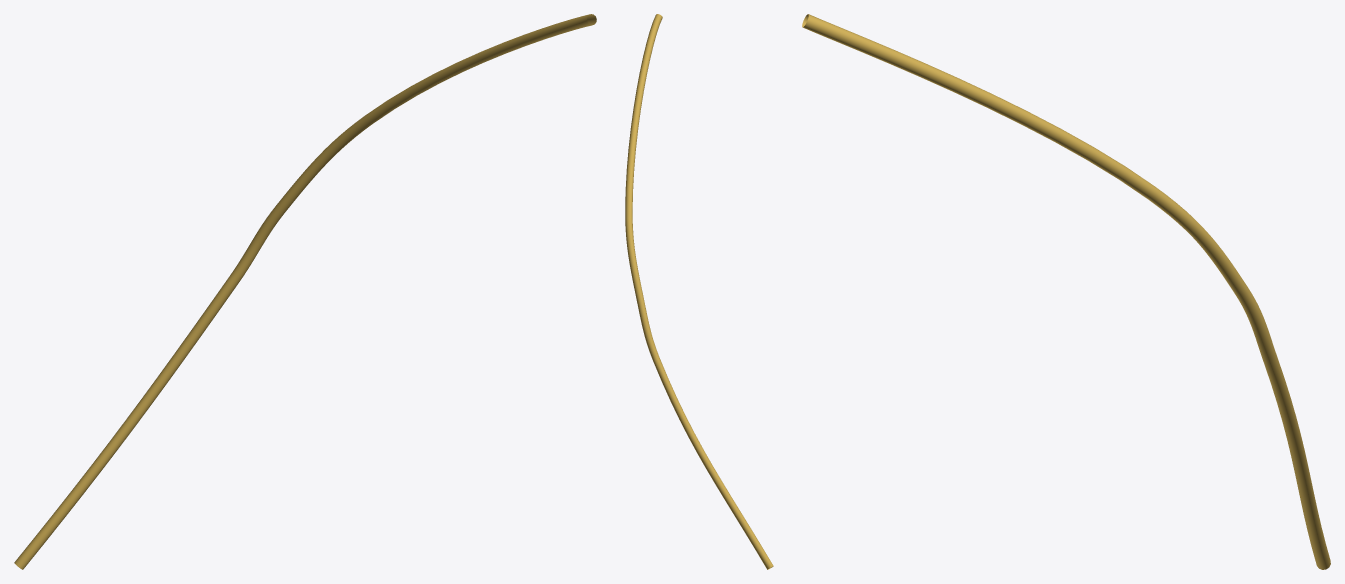
The picture shows the model from 3 angles, left to right: view 1: azimuth 30°, elevation 25°; view 2: azimuth 150°, elevation 25°; view 3: azimuth 270°, elevation 25°; orthographic projection. The views are drawn at different scales.
Visible parts, largest first — view 1: 右侧足底外侧神经; view 2: 右侧足底外侧神经; view 3: 右侧足底外侧神经.
Boxes of the visible parts, x1,y1,x2,y2 form: 右侧足底外侧神经: (14,14,596,569); 右侧足底外侧神经: (625,14,773,569); 右侧足底外侧神经: (802,14,1330,569).
Bounding box in the file's own units: 0.0565 × 0.0869 × 0.053.
